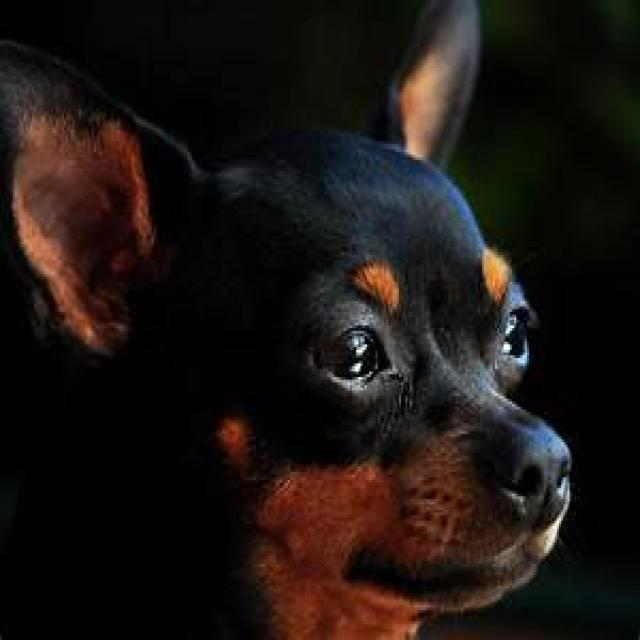animal: (0, 0, 574, 637)
